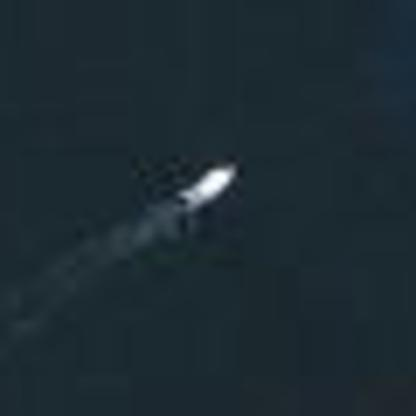ship: (172, 151, 244, 219)
